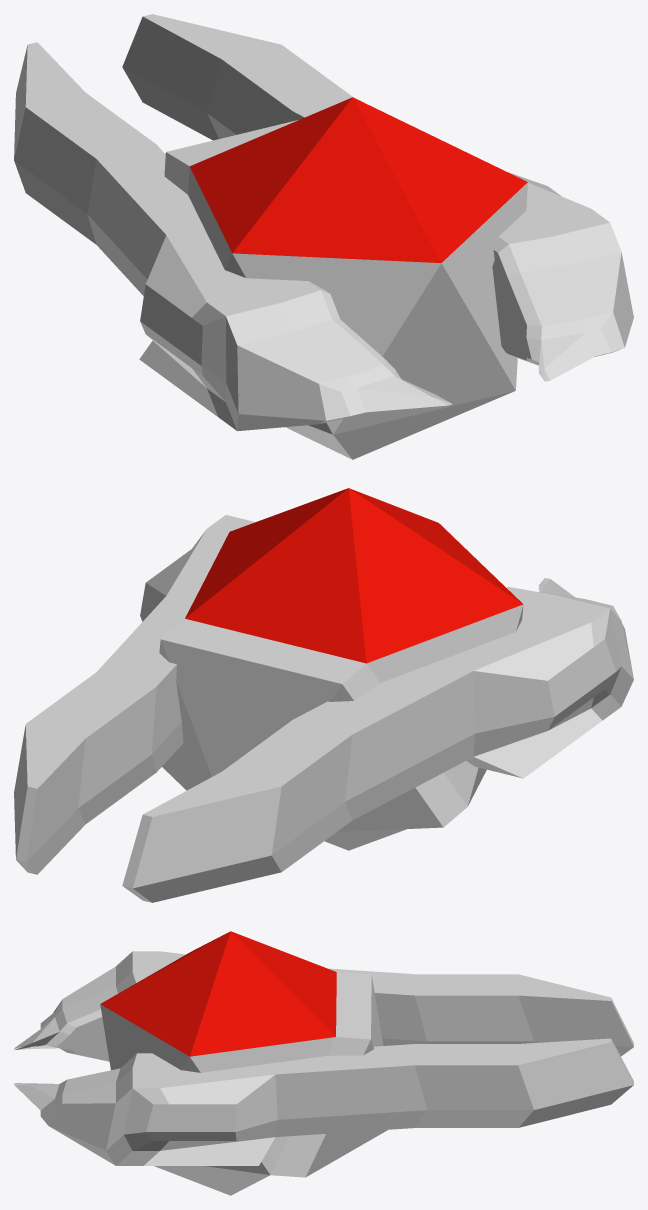
Rendered from player super lacking detail.fbx.
3 renders of one model, top to bottom at view 1: azimuth 30°, elevation 25°; view 2: azimuth 150°, elevation 25°; view 3: azimuth 270°, elevation 25°, orthographic. The views are drawn at different scales.
Visible parts, largest first — view 1: Cube.003; view 2: Cube.003; view 3: Cube.003.
Boxes of the visible parts, x1=… form: Cube.003: x1=14, y1=14, x2=633, y2=459; Cube.003: x1=14, y1=488, x2=633, y2=902; Cube.003: x1=14, y1=931, x2=633, y2=1195.
Bounding box in the file's own units: 488 × 408 × 866.
